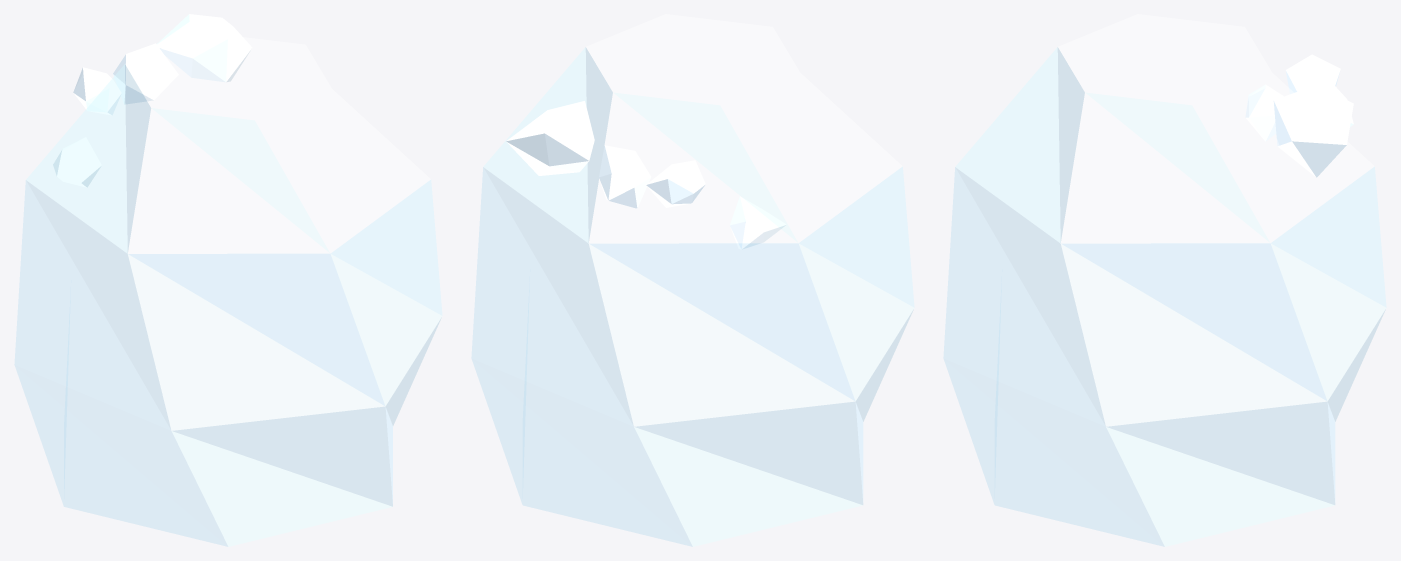
The model's file is ob_ice1.glb.
The picture shows the model from 3 angles, left to right: view 1: azimuth 30°, elevation 25°; view 2: azimuth 150°, elevation 25°; view 3: azimuth 270°, elevation 25°; orthographic projection. The views are drawn at different scales.
Bounding box in the file's own units: 1.35 × 1.36 × 1.35.
